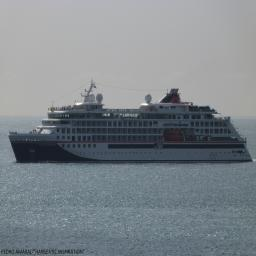cruises: (8, 78, 255, 166)
